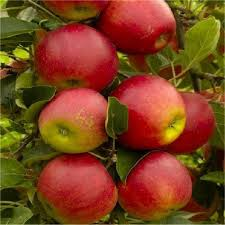1: (37, 86, 115, 152), (116, 74, 181, 149)
Apple: (37, 153, 118, 223), (122, 150, 194, 222), (35, 22, 113, 84), (102, 1, 176, 55), (173, 91, 217, 149), (41, 0, 109, 20)
